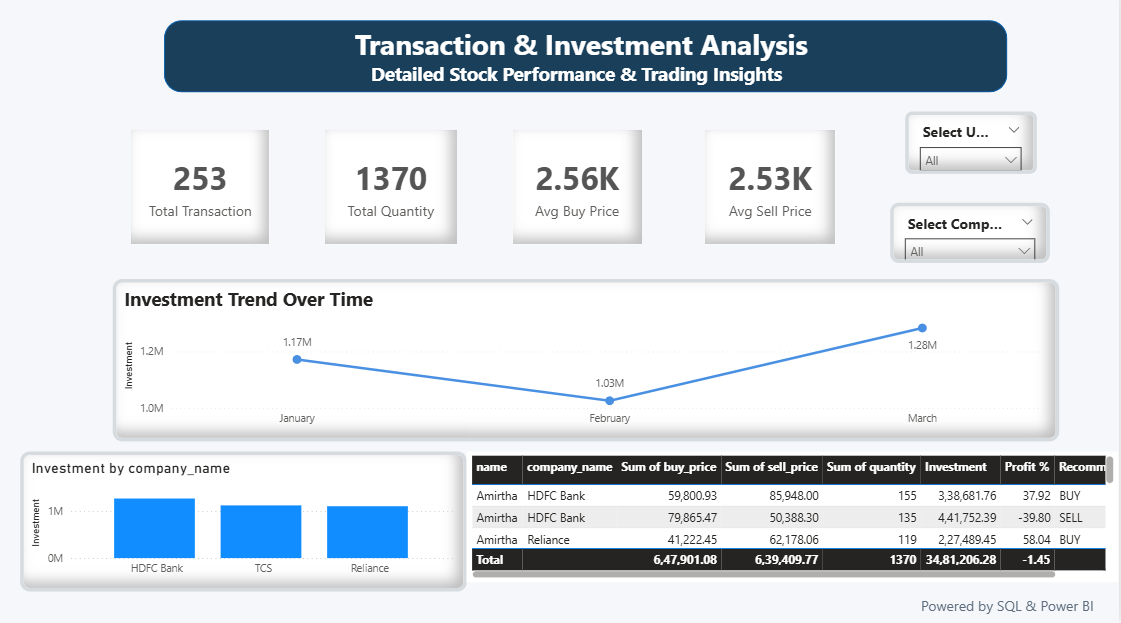

This screenshot's page, from the dashboard's own definition file:
{"tool":"powerbi","page":{"name":"Page 3","canvas":[1280,720],"ordinal":2},"visuals":[{"type":"textbox","box":[1048.6,682.9,231.4,37.1],"z":0},{"type":"shape","box":[188.8,30,963.8,82.5],"z":1000},{"type":"textbox","box":[401.2,30,688.8,52.5],"z":2000},{"type":"textbox","box":[420,71.2,502.5,53.8],"z":3000},{"type":"card","fields":{"Values":["market_data.Total Transaction"]},"box":[151.2,156.2,157.5,130],"z":4000},{"type":"card","fields":{"Values":["market_data.Total Quantity"]},"box":[372.5,156.2,150,130],"z":5000},{"type":"card","fields":{"Values":["market_data.Avg Buy Price"]},"box":[587.5,156.2,147.5,130],"z":6000},{"type":"card","fields":{"Values":["market_data.Avg Sell Price"]},"box":[807.5,156.2,148.8,130],"z":7000},{"type":"slicer","fields":{"Values":["users.name"]},"box":[1035,133.8,150,71.2],"z":8000},{"type":"slicer","fields":{"Values":["stocks.company_name"]},"box":[1018.8,238.8,182.5,68.8],"z":9000},{"type":"lineChart","title":"Investment Trend Over Time","fields":{"Category":["transactions.transaction_date.Variation.Date Hierarchy.Month"],"Y":["transactions.Investment"]},"box":[130,325.7,1081.4,185.7],"z":10000},{"type":"clusteredColumnChart","fields":{"Category":["stocks.company_name"],"Y":["transactions.Investment"]},"box":[24.3,522.9,510,160],"z":11000},{"type":"tableEx","fields":{"Values":["users.name","stocks.company_name","Sum(transactions.buy_price)","Sum(transactions.sell_price)","Sum(transactions.quantity)","transactions.Investment","transactions.Profit %","transactions.Recommendation"]},"box":[535,522.7,744.8,149.7],"z":12000}]}

Visuals, with their boxes in screenshot pixels (x1, y1, x2, y2), scaled from the page's 1280x720 canvas onto the 1121x623 screenshot:
textbox: crop(918, 591, 1120, 622)
shape: crop(165, 26, 1009, 97)
textbox: crop(351, 26, 955, 71)
textbox: crop(368, 62, 808, 108)
card - market_data.Total Transaction: crop(132, 135, 270, 248)
card - market_data.Total Quantity: crop(326, 135, 458, 248)
card - market_data.Avg Buy Price: crop(515, 135, 644, 248)
card - market_data.Avg Sell Price: crop(707, 135, 838, 248)
slicer - users.name: crop(906, 116, 1038, 177)
slicer - stocks.company_name: crop(892, 207, 1052, 266)
"Investment Trend Over Time" lineChart: crop(114, 282, 1061, 443)
clusteredColumnChart - stocks.company_name x transactions.Investment: crop(21, 452, 468, 591)
tableEx - users.name x stocks.company_name: crop(469, 452, 1120, 582)
